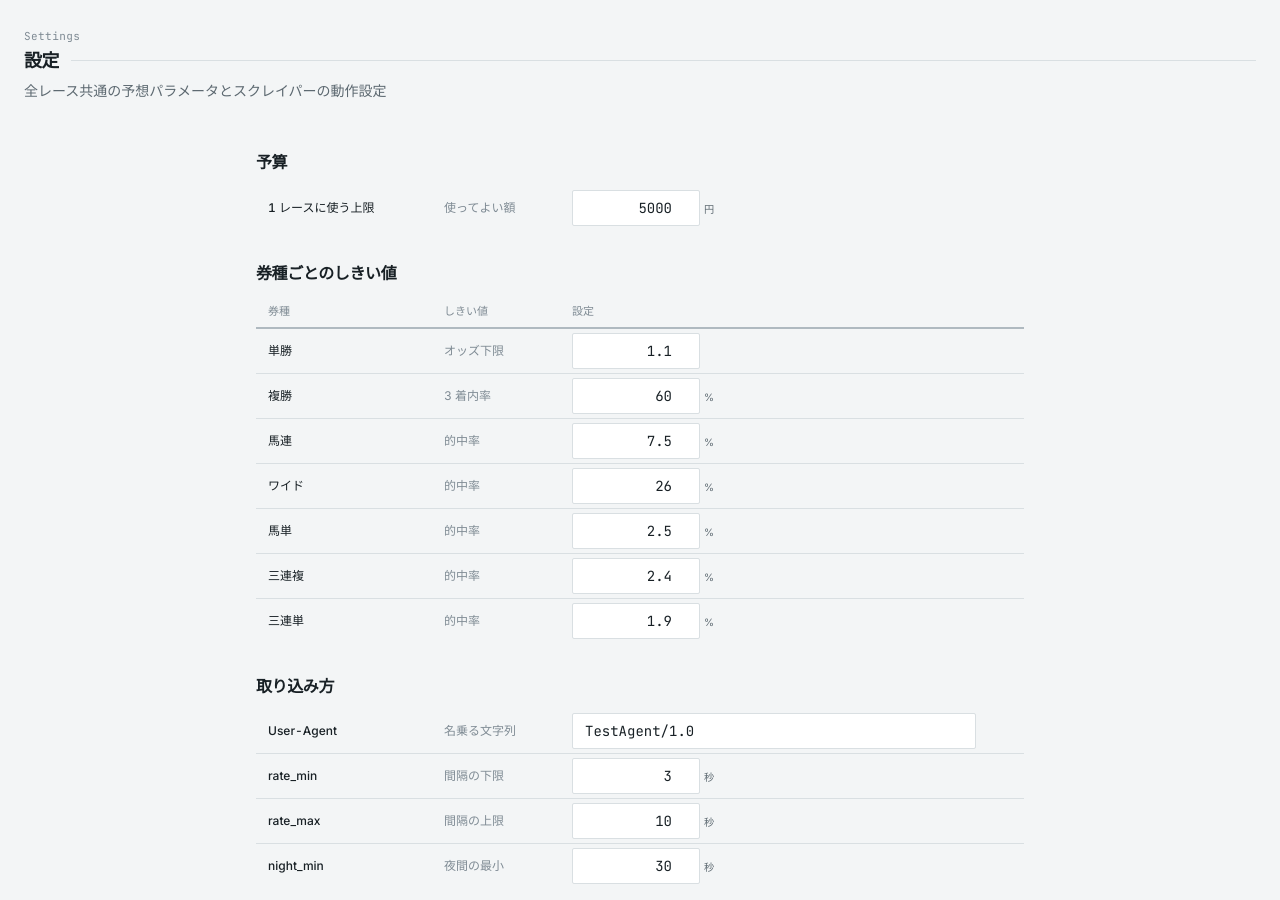
Settings › shows validation error when race_budget is below 100
The width and height of the screenshot is (1280, 900).
Replace the text in the number field named "1 レースに使う上限" with "50" at (636, 208), box 572,190 -> 700,226
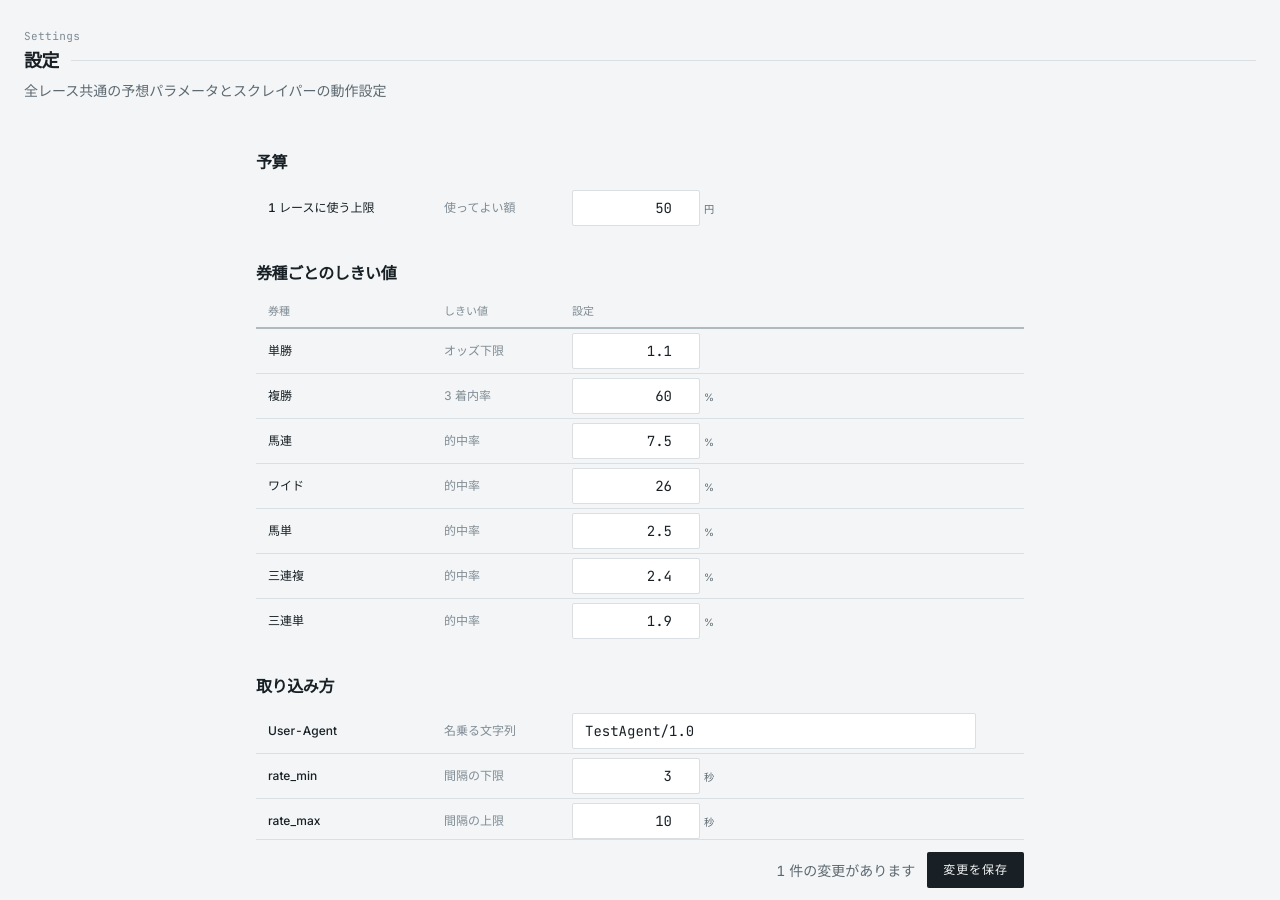
Now the button "変更を保存" is enabled
Click the button "変更を保存" at (976, 870), box 927,852 -> 1024,888
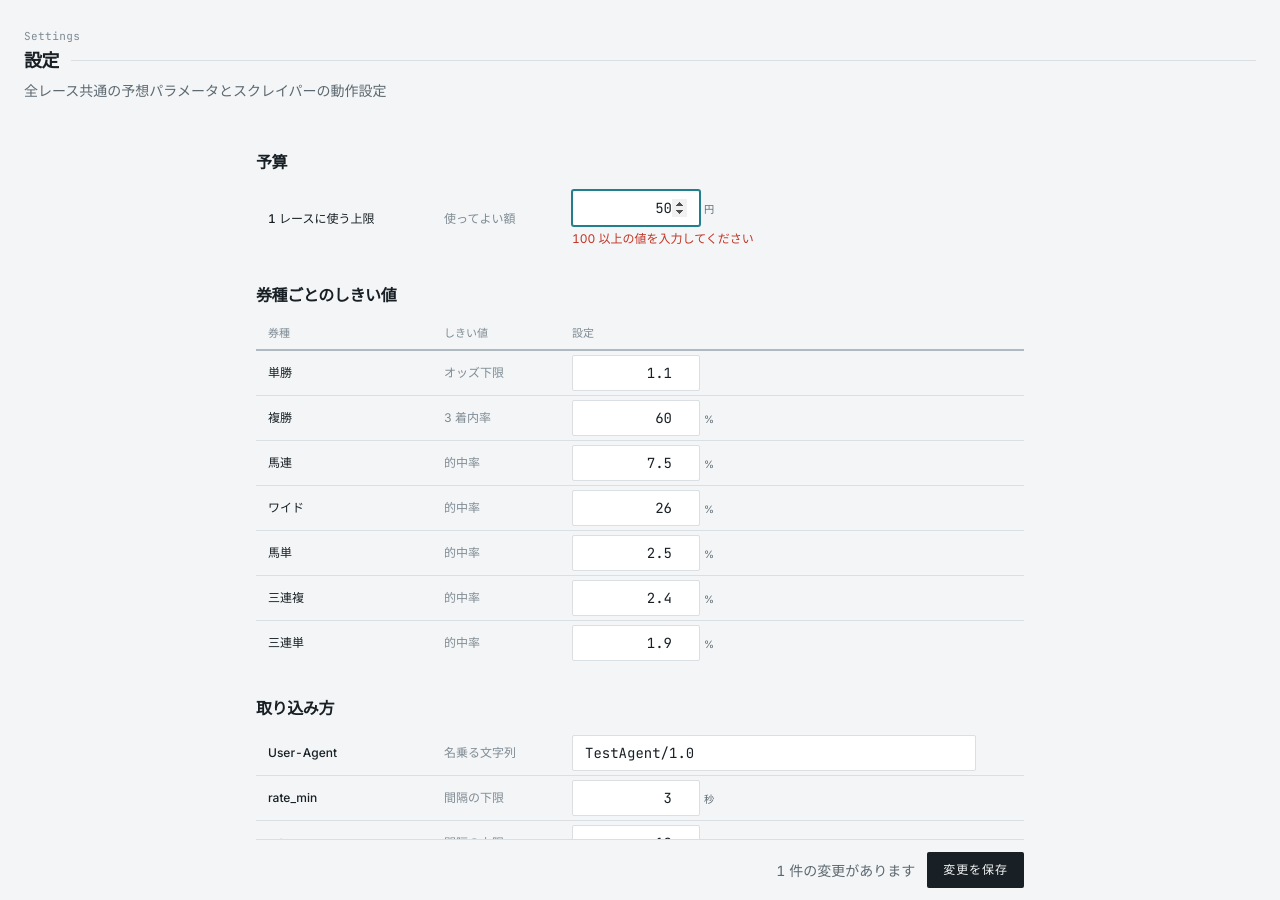
Now the text "100 以上の値を入力してください" is shown, box 572,230 -> 756,248
